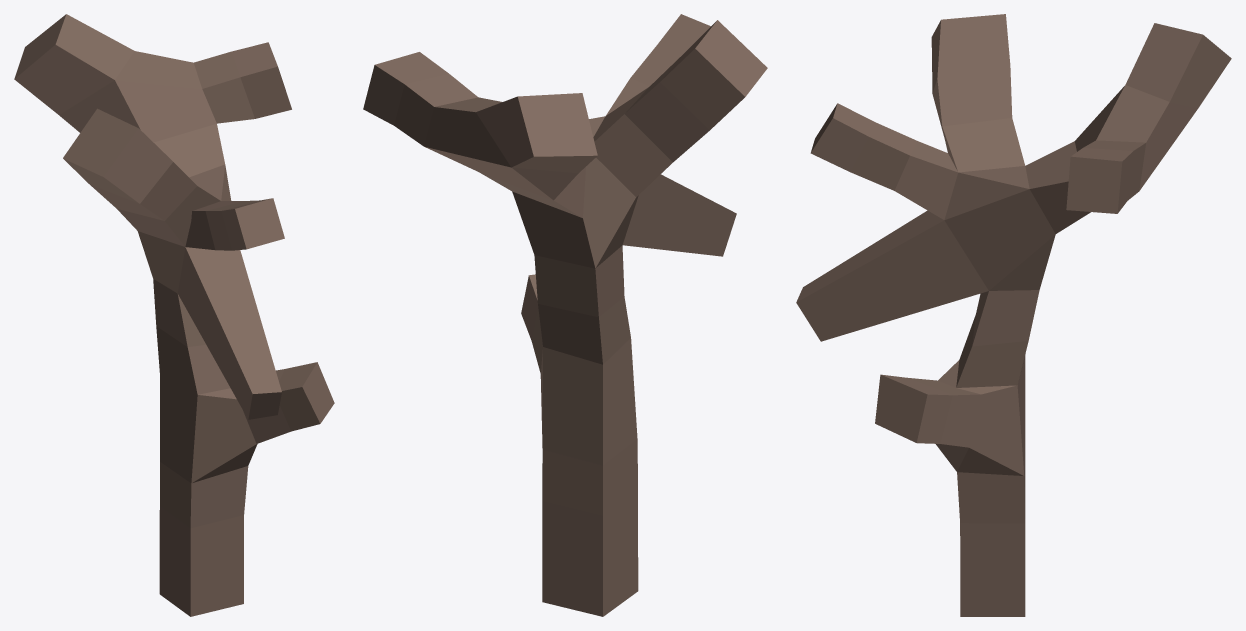
File: dodeboomd.fbx
3 renders of one model, left to right at view 1: azimuth 30°, elevation 25°; view 2: azimuth 150°, elevation 25°; view 3: azimuth 270°, elevation 25°, orthographic. The views are drawn at different scales.
Visible parts, largest first — view 1: DodeBoom; view 2: DodeBoom; view 3: DodeBoom.
Boxes of the visible parts, x1,y1,x2,y2 form: DodeBoom: (14, 14, 334, 616); DodeBoom: (363, 14, 767, 616); DodeBoom: (796, 14, 1231, 616).
Bounding box in the file's own units: 2.61 × 4.67 × 3.35.
